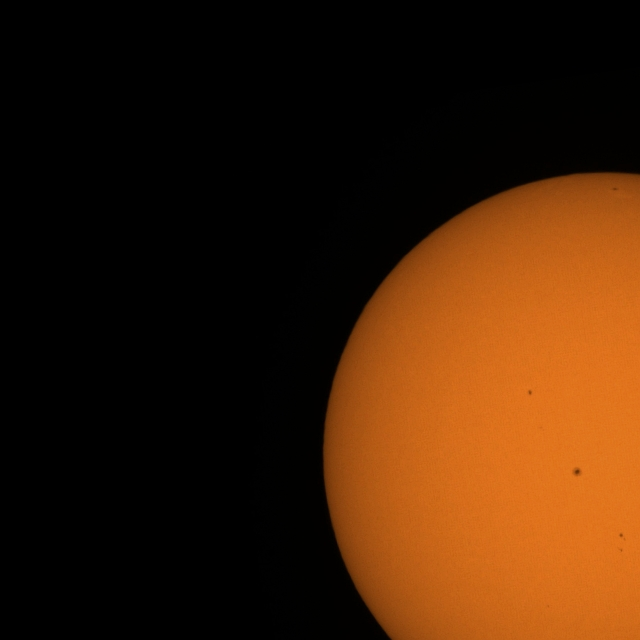sunspot: (572, 466, 582, 478), (618, 532, 626, 542), (611, 186, 619, 192), (527, 388, 533, 396), (618, 548, 624, 554), (546, 604, 550, 609)
